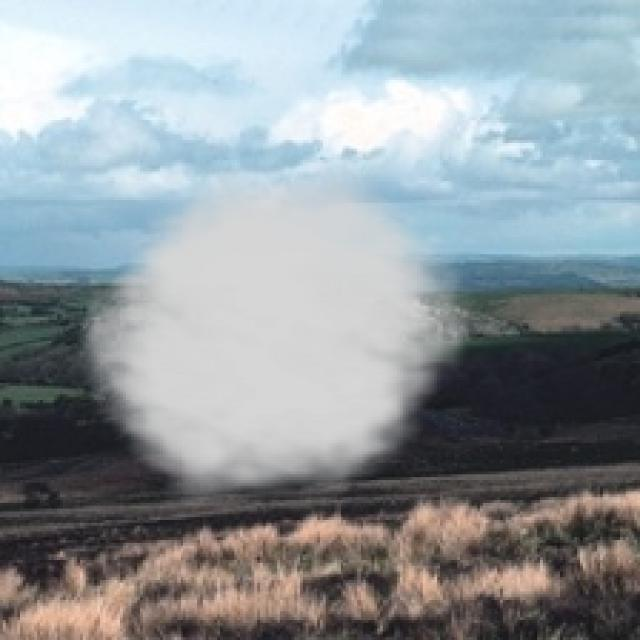Smoke: (63, 166, 486, 514)
